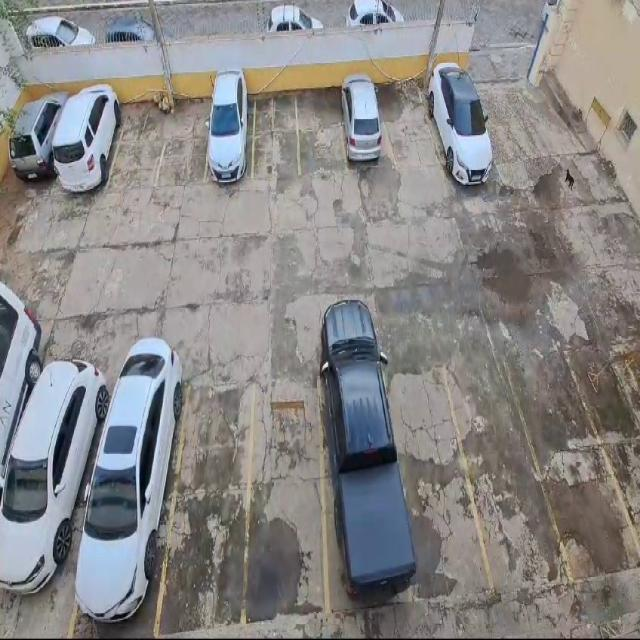empty: (506, 345, 639, 586), (445, 351, 571, 589), (386, 353, 494, 601), (155, 375, 259, 631), (242, 374, 327, 619), (377, 79, 442, 173), (102, 102, 169, 191), (158, 94, 214, 185), (298, 83, 349, 177), (251, 92, 300, 179)
notEmpty: (0, 360, 118, 639), (70, 368, 191, 639), (318, 336, 402, 611), (419, 70, 503, 195), (50, 90, 125, 198), (0, 86, 69, 197), (337, 82, 398, 174), (205, 96, 255, 187)
